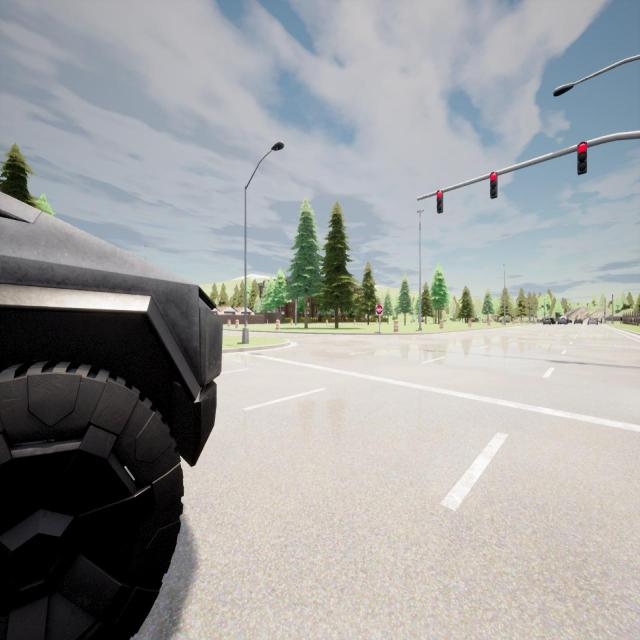Pedestrian: (600, 317, 603, 325), (620, 315, 622, 324)
Traffic_Signs: (375, 304, 383, 316)
Vehicle: (0, 190, 222, 640), (587, 317, 598, 325), (542, 317, 552, 325), (574, 318, 583, 324), (558, 318, 566, 324), (552, 318, 556, 325), (568, 318, 572, 324), (560, 316, 566, 318)
traffic_light: (577, 142, 587, 175), (490, 172, 498, 198), (437, 190, 443, 214), (610, 300, 612, 304), (604, 311, 605, 315), (587, 303, 588, 306), (577, 304, 578, 306), (570, 304, 570, 307)
